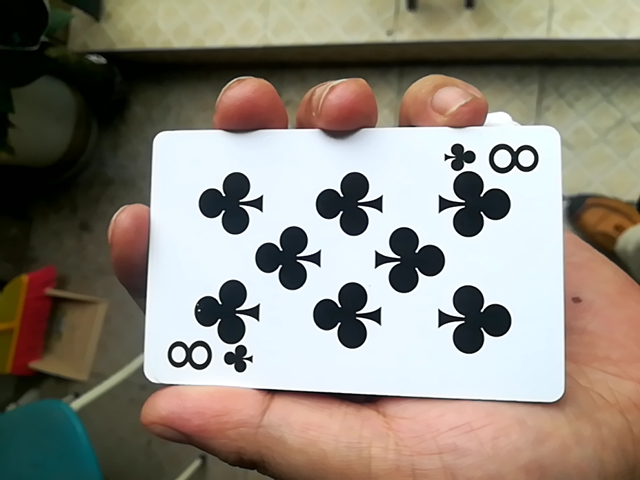mh 8: (130, 120, 554, 415)
